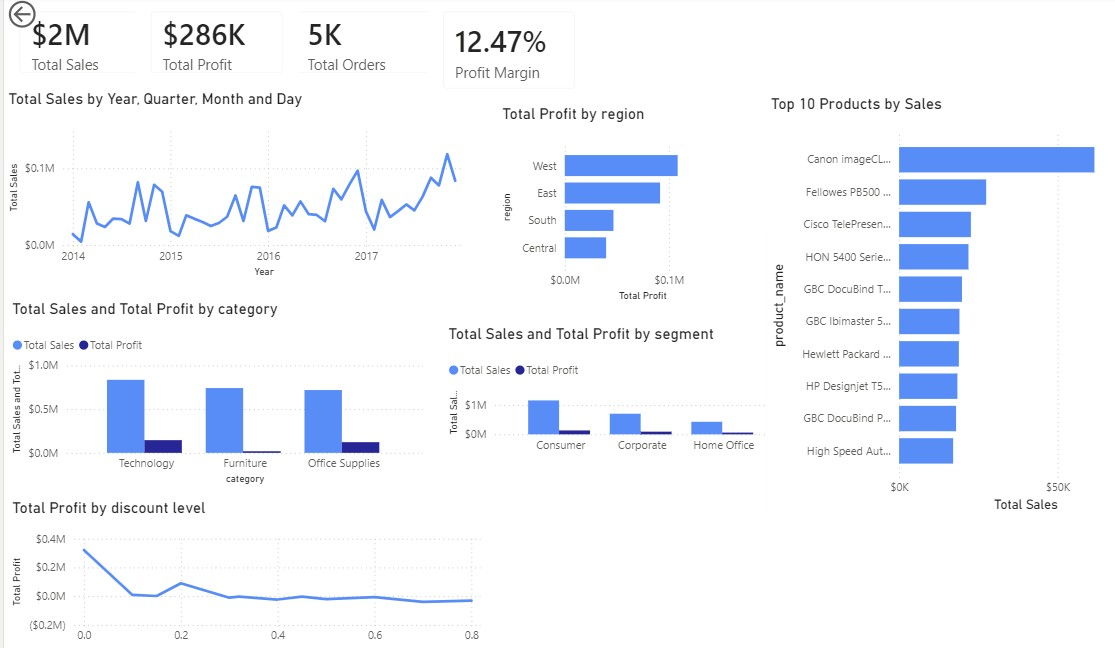

What the dashboard file says about the page in this screenshot:
{"tool":"powerbi","page":{"name":"Page 1","canvas":[1280,720],"ordinal":0},"visuals":[{"type":"cardVisual","fields":{"Data":["Retail Sales.Total Sales","Retail Sales.Total Sales"]},"box":[0,0,181.1,102.9],"z":0},{"type":"cardVisual","fields":{"Data":["Retail Sales.Total Orders"]},"box":[303.3,0,209.9,102.9],"z":1000},{"type":"cardVisual","fields":{"Data":["Retail Sales.Profit Margin"]},"box":[465.2,0,179.8,119.4],"z":2000},{"type":"lineChart","fields":{"Y":["Retail Sales.Total Sales"],"Category":["Retail Sales.order_year_month.Variation.Date Hierarchy.Year","Retail Sales.order_year_month.Variation.Date Hierarchy.Quarter","Retail Sales.order_year_month.Variation.Date Hierarchy.Month","Retail Sales.order_year_month.Variation.Date Hierarchy.Day"]},"box":[0,102.9,513.6,210.3],"z":3000},{"type":"cardVisual","fields":{"Data":["Retail Sales.Total Profit"]},"box":[144.1,0,179.8,102.9],"z":4000},{"type":"clusteredColumnChart","fields":{"Category":["Retail Sales.category"],"Y":["Retail Sales.Total Sales","Retail Sales.Total Profit"]},"box":[4.1,333.4,461,207.9],"z":4001},{"type":"clusteredBarChart","fields":{"Category":["Retail Sales.region"],"Y":["Retail Sales.Total Profit"]},"box":[542,119.4,267.2,220.5],"z":4002},{"type":"clusteredColumnChart","fields":{"Category":["Retail Sales.segment"],"Y":["Retail Sales.Total Sales","Retail Sales.Total Profit"]},"box":[483,360.9,384.1,150.3],"z":4003},{"type":"barChart","title":"Top 10 Products by Sales","fields":{"Category":["Retail Sales.product_name"],"Y":["Retail Sales.Total Sales"]},"box":[837.1,108.4,443.2,462.4],"z":4004},{"type":"lineChart","title":"Total Profit by discount level","fields":{"Category":["Retail Sales.discount"],"Y":["Retail Sales.Total Profit"]},"box":[4.1,551.6,524.2,168.8],"z":4005},{"type":"actionButton","box":[0,0,100,40],"z":4006}]}

Visuals, with their boxes on the page's 1280x720 design canvas (x1, y1, x2, y2). These are canvas units, not pixel positions in the 1115x648 screenshot, which may show the page scaled, cropped or inside an application window:
cardVisual - Retail Sales.Total Sales x Retail Sales.Total Sales: [0,0,181,103]
cardVisual - Retail Sales.Total Orders: [303,0,513,103]
cardVisual - Retail Sales.Profit Margin: [465,0,645,119]
lineChart - Retail Sales.Total Sales x Retail Sales.order_year_month.Variation.Date Hierarchy.Year: [0,103,514,313]
cardVisual - Retail Sales.Total Profit: [144,0,324,103]
clusteredColumnChart - Retail Sales.category x Retail Sales.Total Sales: [4,333,465,541]
clusteredBarChart - Retail Sales.region x Retail Sales.Total Profit: [542,119,809,340]
clusteredColumnChart - Retail Sales.segment x Retail Sales.Total Sales: [483,361,867,511]
"Top 10 Products by Sales" barChart: [837,108,1280,571]
"Total Profit by discount level" lineChart: [4,552,528,720]
actionButton: [0,0,100,40]
